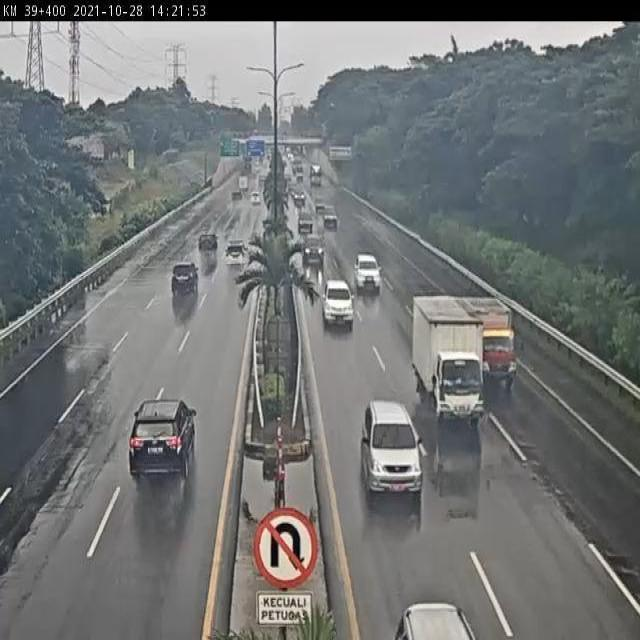ARABA: (359, 401, 423, 491), (128, 400, 196, 479), (322, 281, 355, 327), (355, 252, 382, 293), (170, 260, 200, 296), (224, 242, 249, 270), (303, 235, 326, 264), (199, 232, 221, 256)
KAMYONET: (412, 296, 487, 423), (465, 297, 518, 387)
